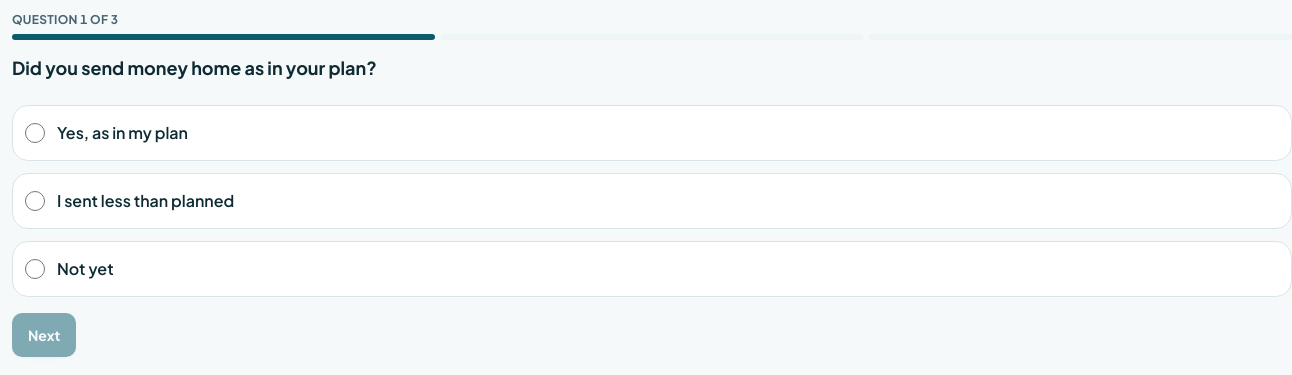
Test: sending the answers › sends the three choices once, to the plan and milestone of the link, and thanks the worker
Click the radio button labelled "Yes, as in my plan" at (35, 133), box [25,123,45,143]
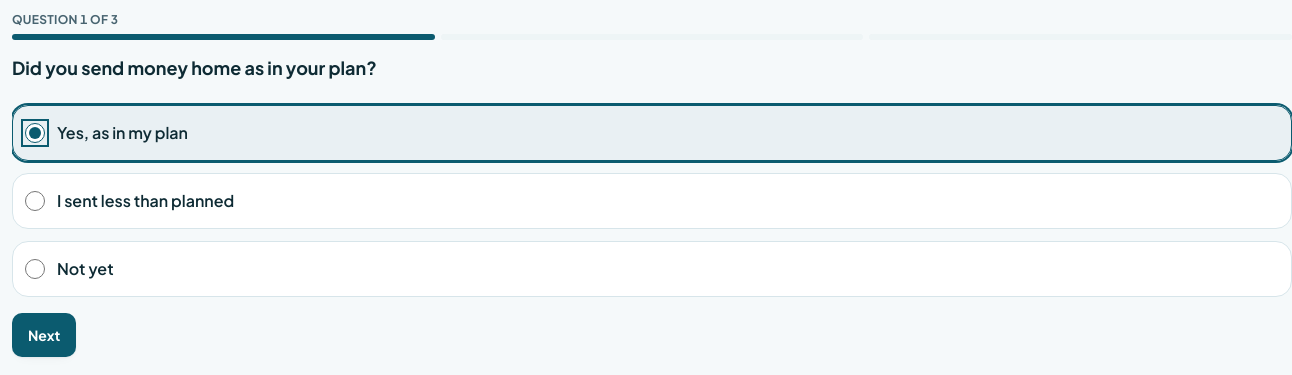
Click the button "Next" at (44, 335), box [12,313,76,357]
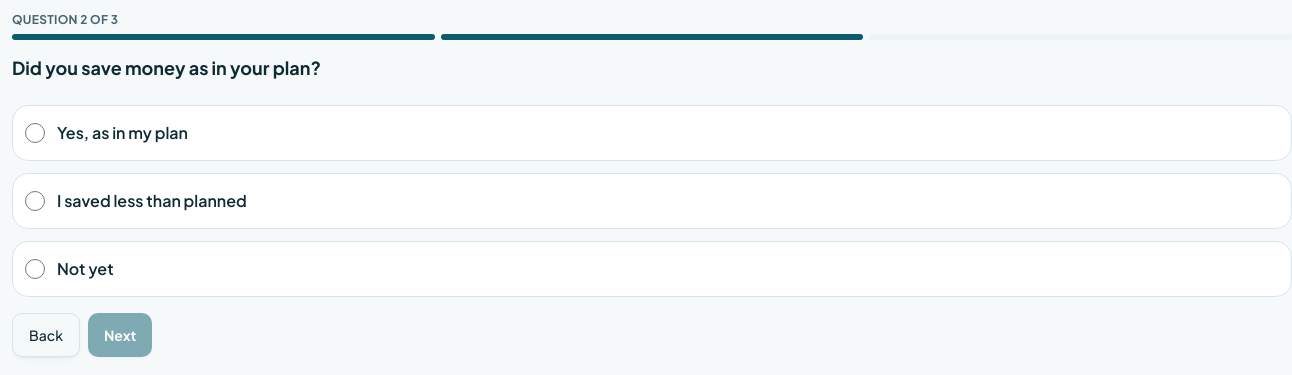
Click the radio button labelled "I saved less than planned" at (35, 201), box [25,191,45,211]
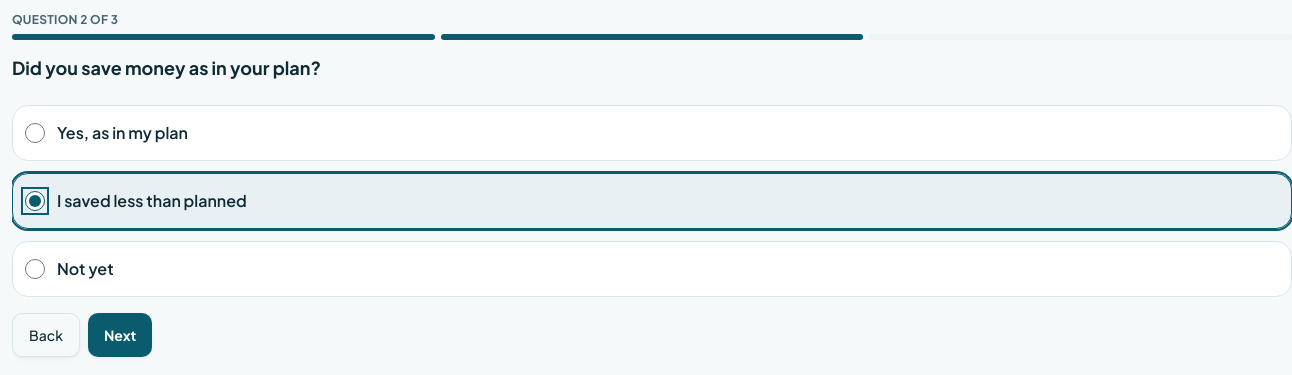
Click the button "Next" at (120, 335), box [88,313,152,357]
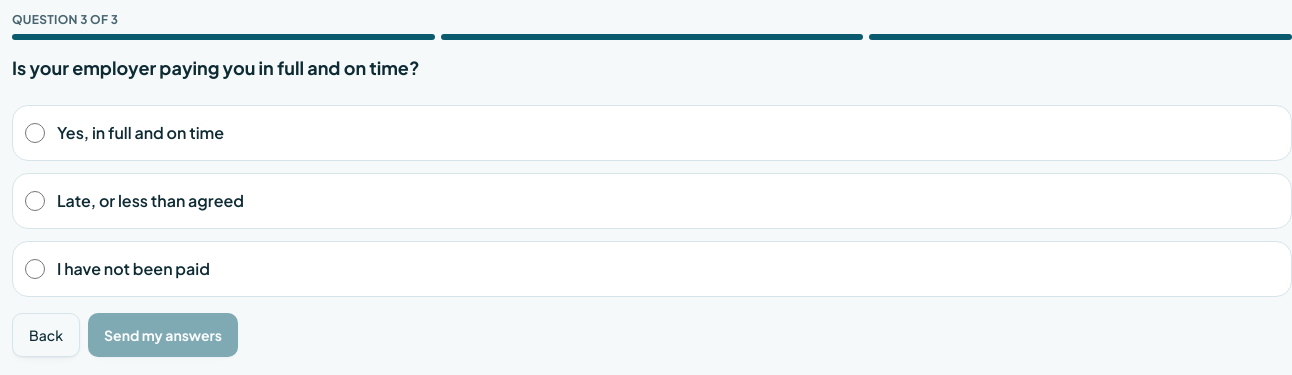
Click the radio button labelled "Yes, in full and on time" at (35, 133), box [25,123,45,143]
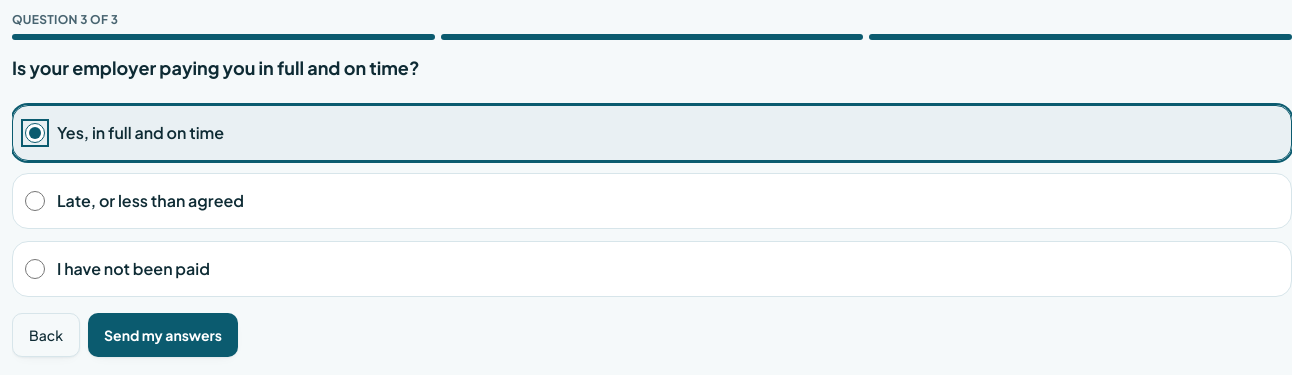
Click the button "Send my answers" at (163, 335), box [88,313,238,357]
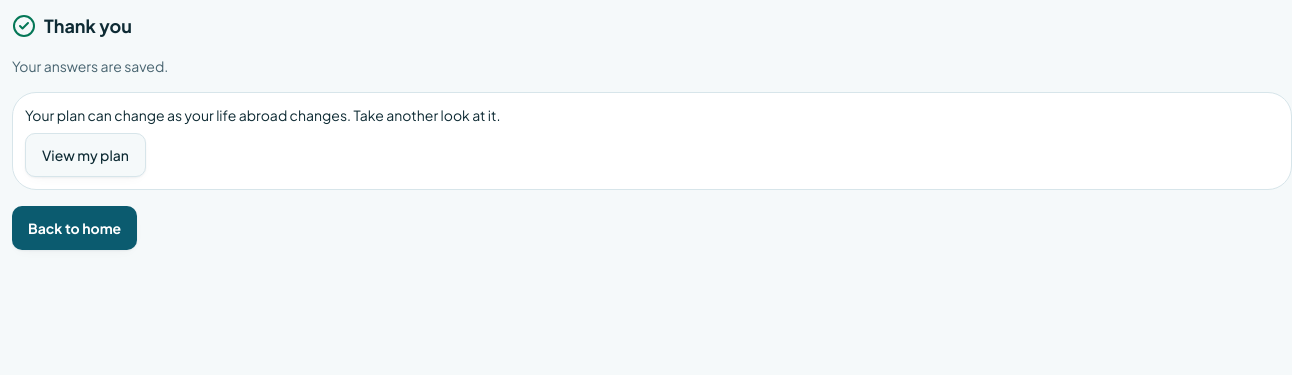
Check: the heading "Thank you" is shown, box [44,12,132,40]
Check: the text "Your answers are saved." is shown, box [12,57,168,75]
Check: the button "Send my answers" is gone
